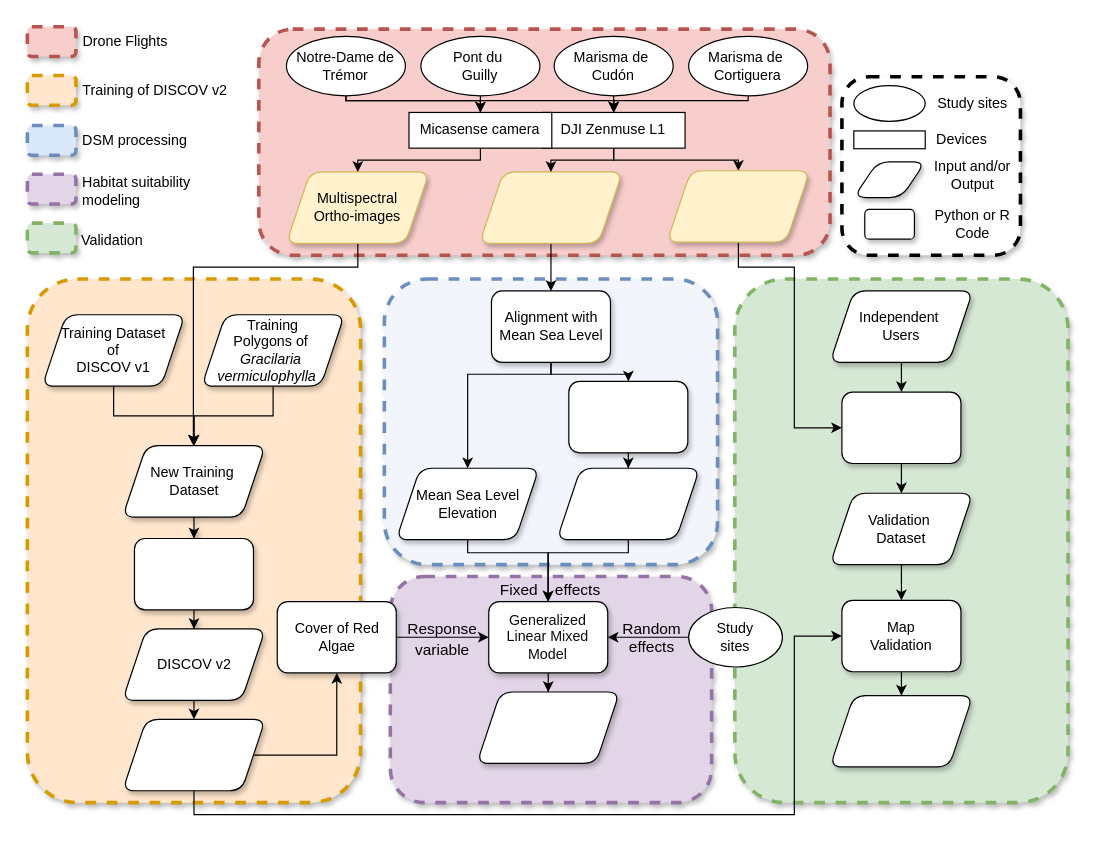
Some shapes in this 1097 by 845 pixel diagram are drawn without their labels. Here are the shapes that lost their labels. From the top down, the centre of each, then its label:
(552,209): LiDAR-derived Digital Surface Model
(739,207): High-resolution RGB Ortho-images
(629,418): Slope processing
(902,429): Shiny Application for Validation
(629,505): Raster of the slope of the mudflat
(195,575): Re-training
(549,729): Spatial distribution of Gracilaria vermiculophylla
(902,732): Accuracy Score & Confusion matrix
(195,756): Classification maps
